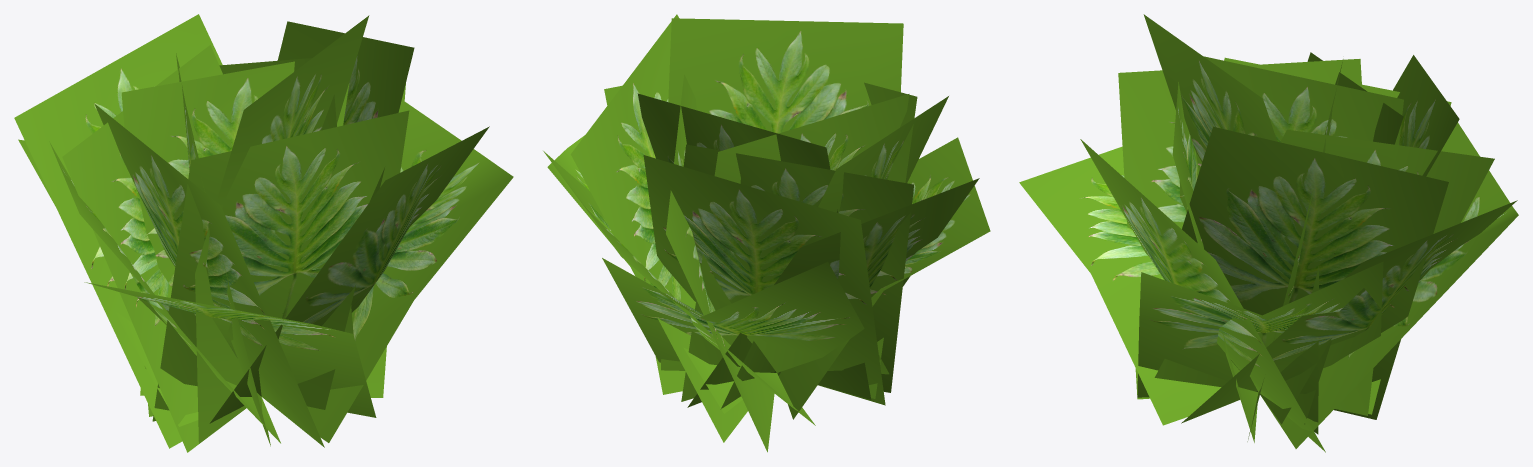
Rendered from gs_bush41.glb.
3 renders of one model, left to right at view 1: azimuth 30°, elevation 25°; view 2: azimuth 150°, elevation 25°; view 3: azimuth 270°, elevation 25°, orthographic. The views are drawn at different scales.
Parts seen in each view (by area): view 1: Plane01; view 2: Plane01; view 3: Plane01.
Boxes of the visible parts, x1=… form: Plane01: x1=14, y1=14, x2=513, y2=452; Plane01: x1=543, y1=14, x2=990, y2=452; Plane01: x1=1019, y1=14, x2=1518, y2=452.
Bounding box in the file's own units: 160 × 140 × 166.
Materials: 1 (1 with a texture image).
